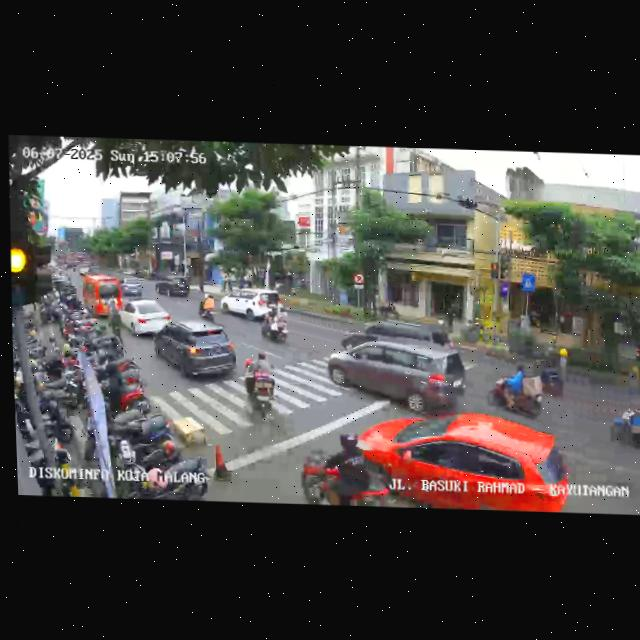car: (362, 408, 571, 512), (326, 336, 467, 413), (153, 320, 240, 383), (338, 319, 454, 354), (116, 298, 171, 339), (219, 287, 278, 319), (81, 273, 122, 318), (153, 274, 189, 299), (120, 274, 144, 298)
motorcycle: (304, 428, 387, 505), (482, 361, 544, 419), (241, 349, 279, 419), (609, 392, 640, 454), (538, 338, 568, 398), (259, 298, 293, 346), (197, 292, 218, 322)
